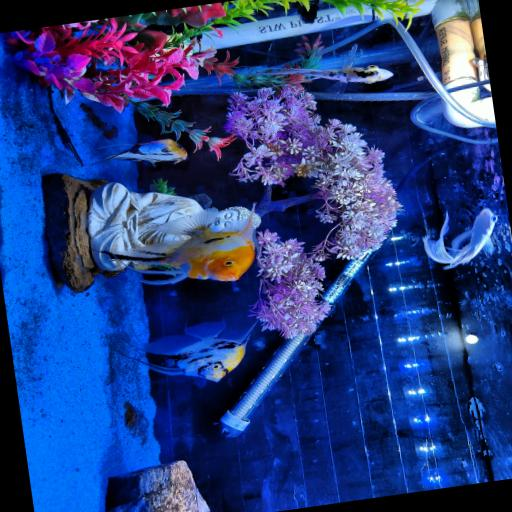Fish: (99, 207, 254, 284), (236, 44, 392, 93), (131, 322, 255, 381), (422, 207, 496, 268), (91, 138, 186, 165), (471, 56, 488, 80)
